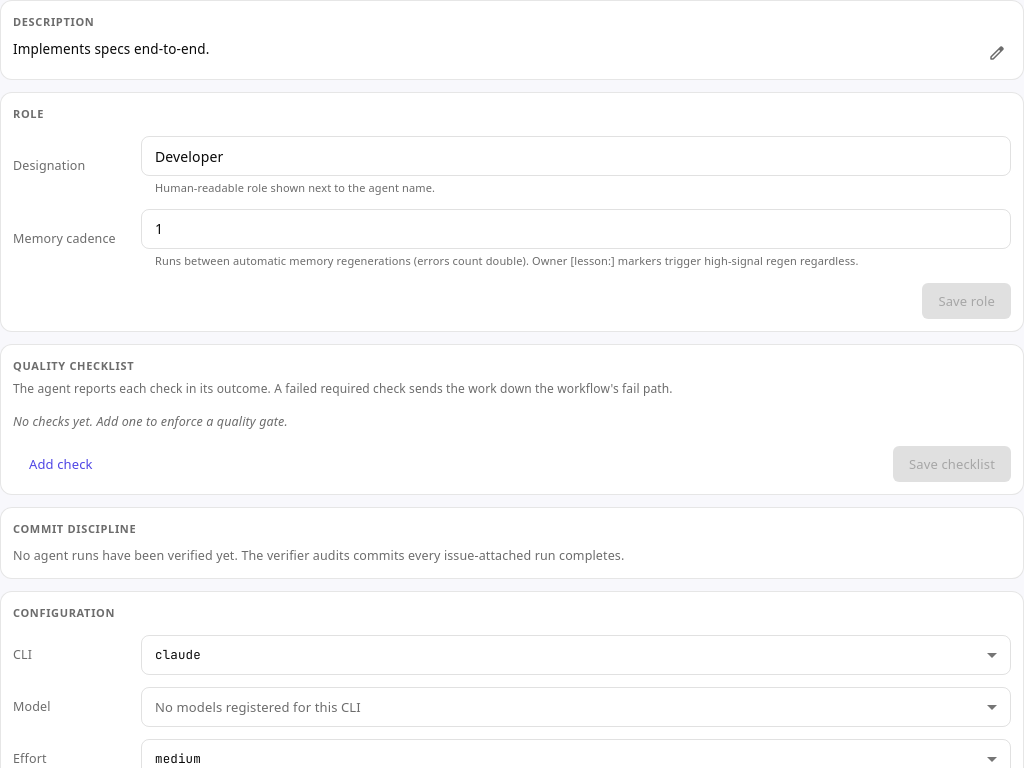
Scenario: OverviewTabContent › Cancel button reverts description editing
Expected: the text "Implements specs end-to-end." is shown, [13,40,209,58]
Click the button named "Edit description".
click(997, 53)  # box [983,39,1011,67]
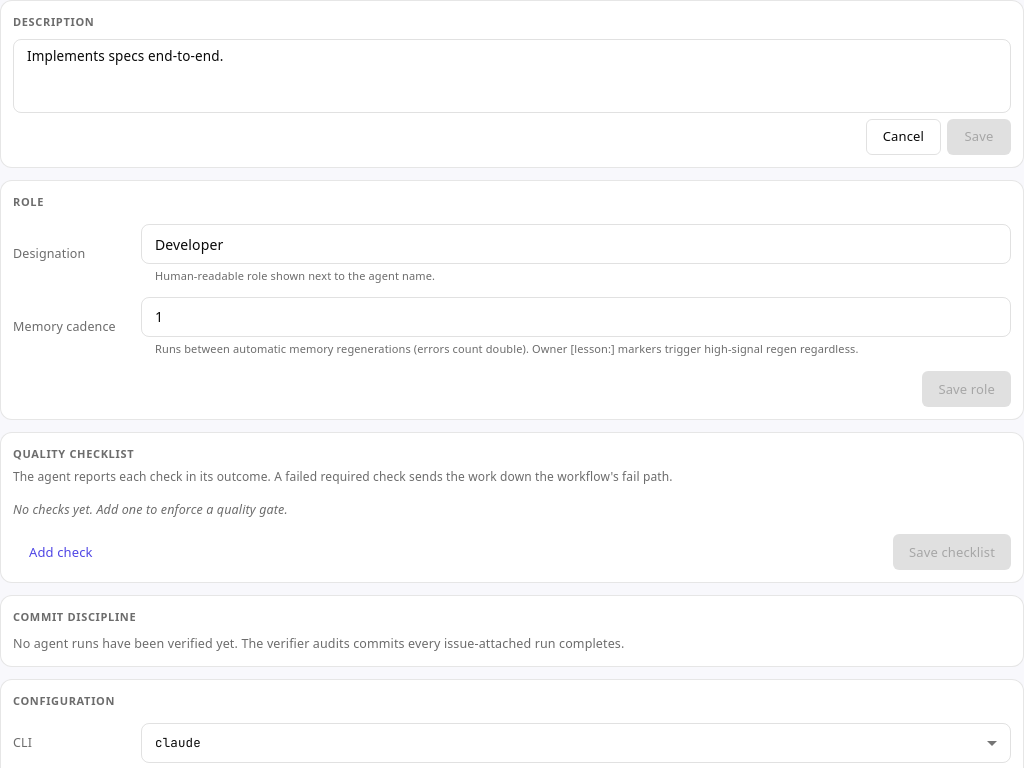
Now the button "Cancel" is shown
Click the button "Cancel".
click(903, 137)  # box [866,119,941,155]
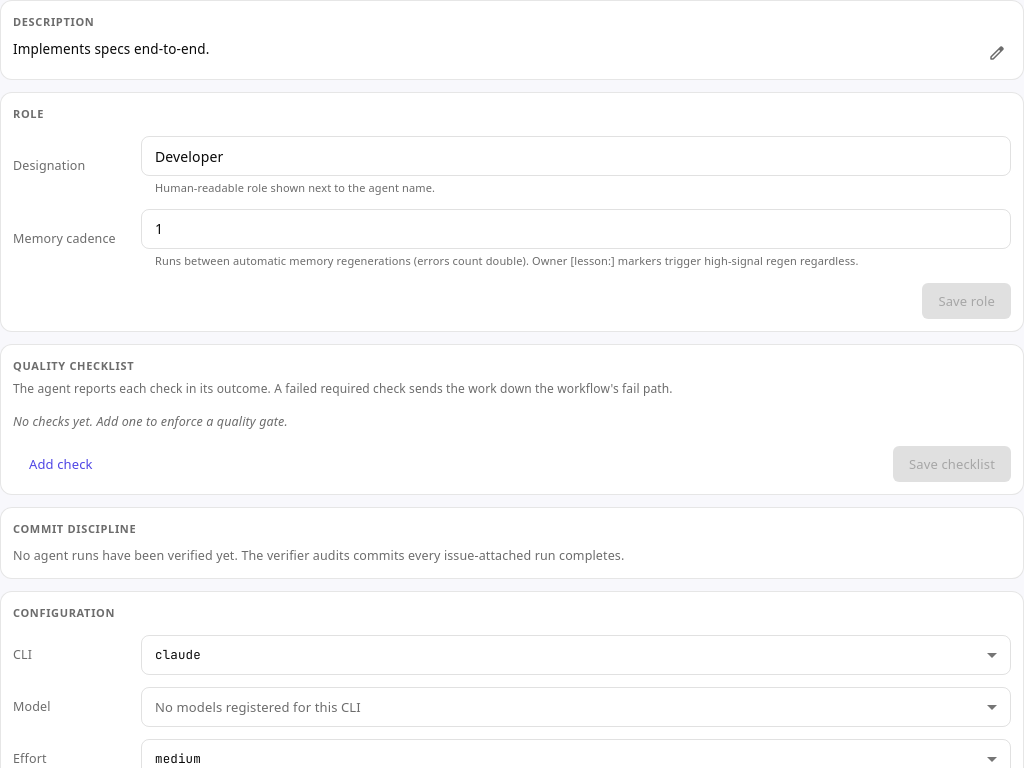
Now the text "Implements specs end-to-end." is shown, box [13,40,209,58]
